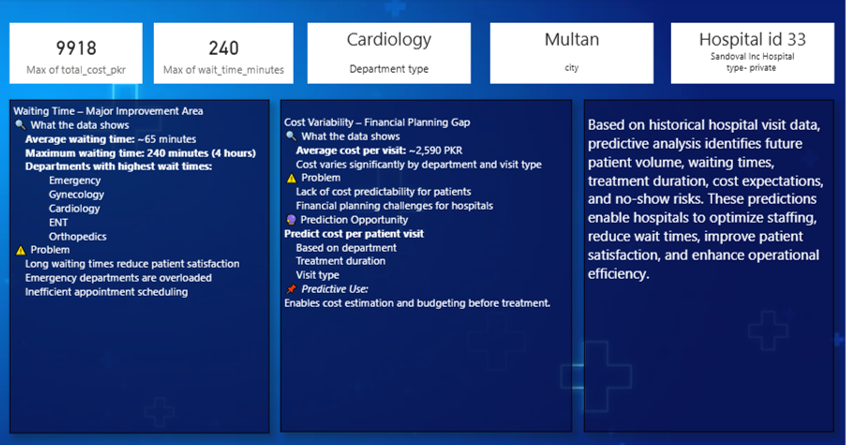

This screenshot's page, from the dashboard's own definition file:
{"tool":"powerbi","page":{"name":"prediction","canvas":[1280,720],"ordinal":4},"visuals":[{"type":"card","fields":{"Values":["Max(Patient_Visits.total_cost_pkr)"]},"box":[17,36.9,201.3,92.1],"z":0},{"type":"card","fields":{"Values":["Max(Patient_Visits.wait_time_minutes)"]},"box":[235.3,36.9,211.2,92.1],"z":1000},{"type":"textbox","box":[467.7,36.9,246.6,92.1],"z":2000},{"type":"textbox","box":[744.1,36.9,246.6,92.1],"z":3000},{"type":"textbox","box":[1017.6,36.9,246.6,92.1],"z":4000},{"type":"textbox","box":[17,153.1,392.6,504.6],"z":5000},{"type":"textbox","box":[426.6,153.1,440.8,503.1],"z":6000},{"type":"textbox","box":[885.8,153.1,378.4,503.1],"z":7000}]}

Visuals, with their boxes on the page's 1280x720 design canvas (x1, y1, x2, y2). These are canvas units, not pixel positions in the 846x445 screenshot, which may show the page scaled, cropped or inside an application window:
card - Max(Patient_Visits.total_cost_pkr): box(17, 37, 218, 129)
card - Max(Patient_Visits.wait_time_minutes): box(235, 37, 446, 129)
textbox: box(468, 37, 714, 129)
textbox: box(744, 37, 991, 129)
textbox: box(1018, 37, 1264, 129)
textbox: box(17, 153, 410, 658)
textbox: box(427, 153, 867, 656)
textbox: box(886, 153, 1264, 656)
